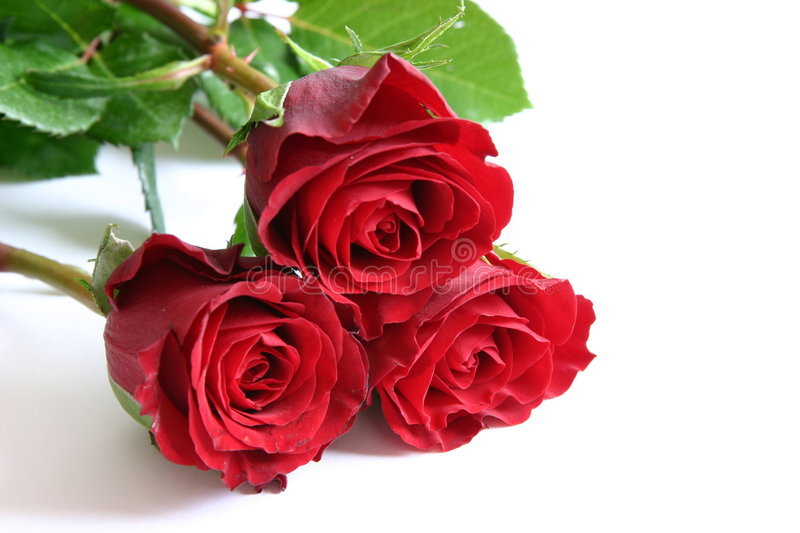RedRose: (228, 22, 552, 307), (67, 220, 395, 478), (364, 235, 668, 490)
